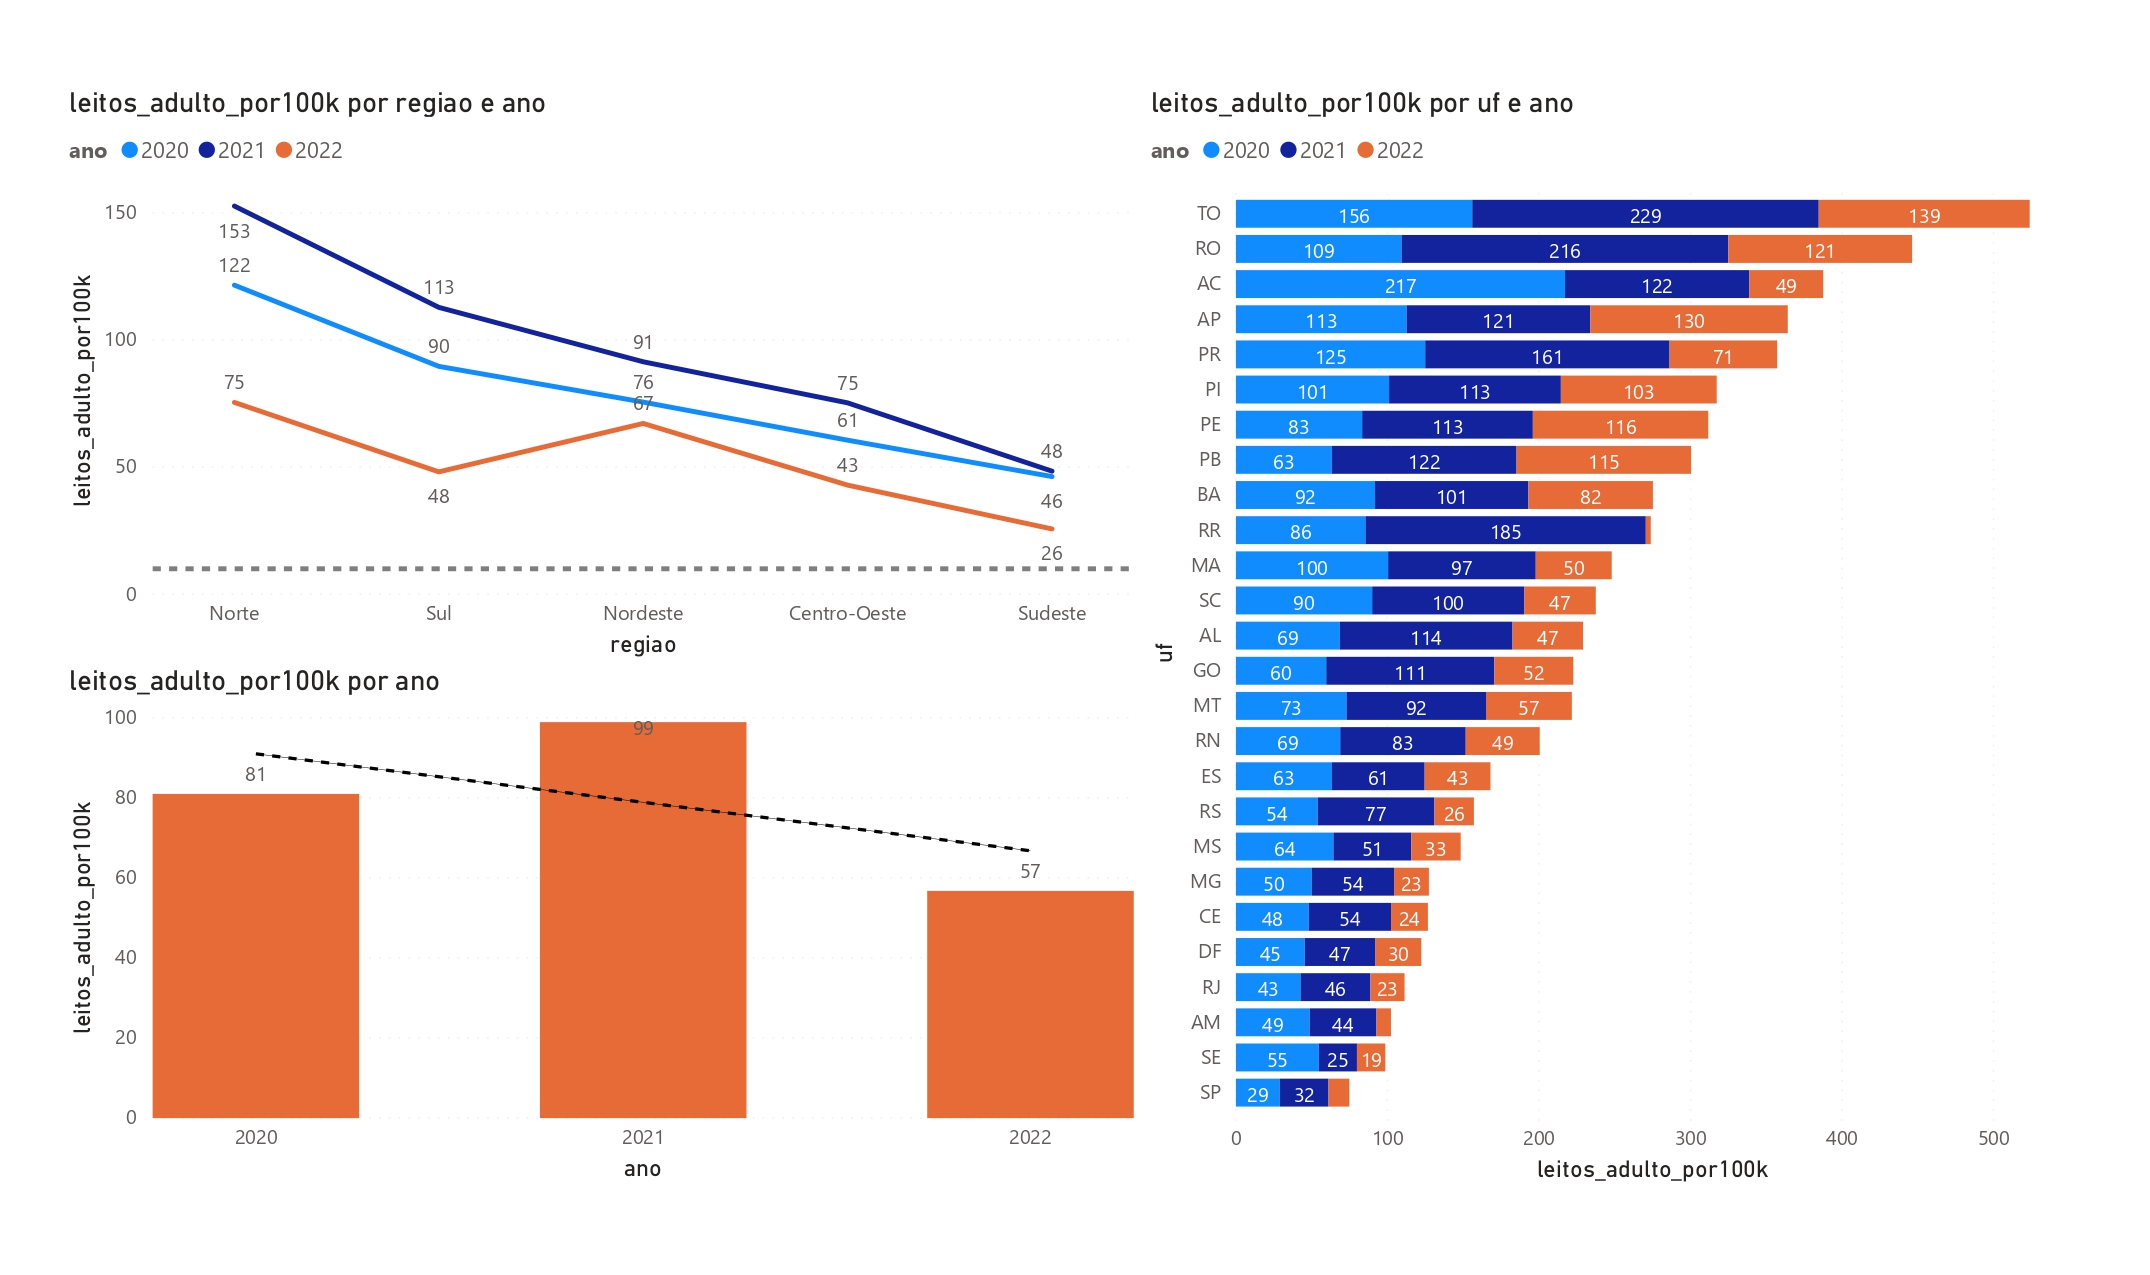

Layout of this report page (visuals, bound fields, positions):
{"tool":"powerbi","page":{"name":"UTI por 100K","canvas":[1280,720],"ordinal":5},"visuals":[{"type":"lineChart","fields":{"Y":["Avg(projetotcc fato_recursos.quant_leitos_adulto_por100k)"],"Category":["projetotcc dim_local.regiao"],"Series":["projetotcc dim_tempo.ano"]},"box":[21,23,659,353],"z":3},{"type":"barChart","fields":{"Y":["Avg(projetotcc fato_recursos.quant_leitos_adulto_por100k)"],"Category":["projetotcc dim_local.uf"],"Series":["projetotcc dim_tempo.ano"]},"box":[680.5,23.1,580.2,672.8],"z":1000},{"type":"clusteredColumnChart","fields":{"Category":["projetotcc dim_tempo.ano"],"Y":["Avg(projetotcc fato_recursos.quant_leitos_adulto_por100k)"]},"box":[21.2,375.9,659.3,320],"z":2000}]}

Visuals, with their boxes on the page's 1280x720 design canvas (x1, y1, x2, y2). These are canvas units, not pixel positions in the 2150x1275 screenshot, which may show the page scaled, cropped or inside an application window:
lineChart - Avg(projetotcc fato_recursos.quant_leitos_adulto_por100k) x projetotcc dim_local.regiao: (left=21, top=23, right=680, bottom=376)
barChart - Avg(projetotcc fato_recursos.quant_leitos_adulto_por100k) x projetotcc dim_local.uf: (left=680, top=23, right=1261, bottom=696)
clusteredColumnChart - projetotcc dim_tempo.ano x Avg(projetotcc fato_recursos.quant_leitos_adulto_por100k): (left=21, top=376, right=680, bottom=696)
